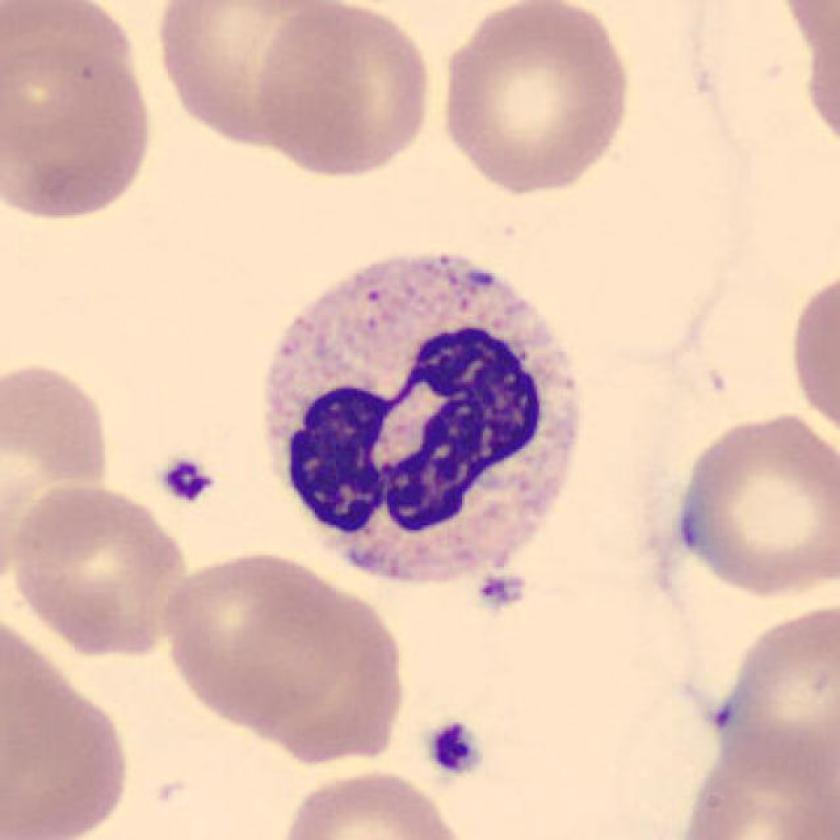neutrophil: (265, 252, 580, 585)
